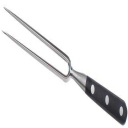Fork: (1, 5, 128, 128)
